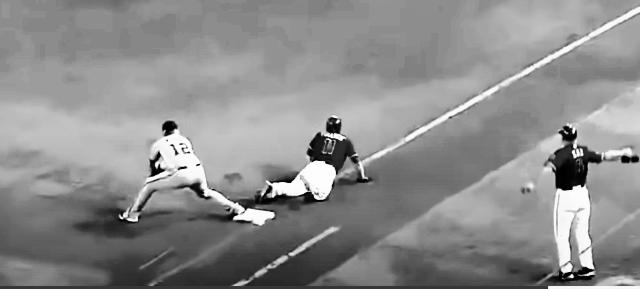jatuh: (255, 112, 375, 210)
